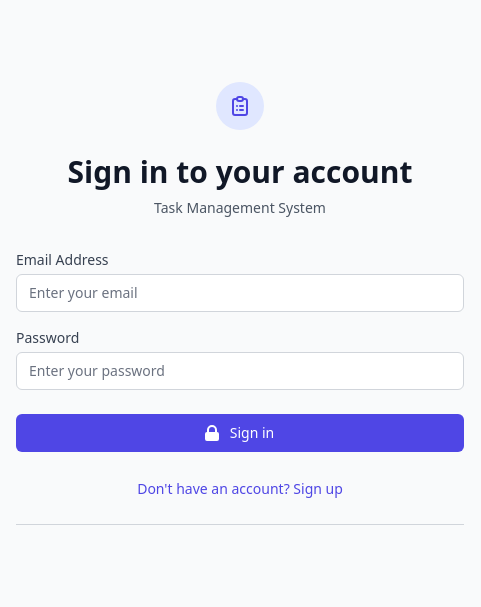
Test case: Login › switches back to login mode from signup
# Switch to signup
Click the button "Don't have an account? Sign up".
click(240, 489)  # box left=137, top=479, right=343, bottom=499
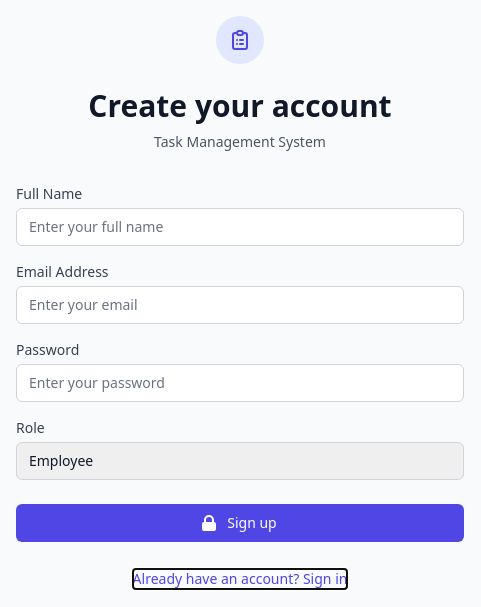
Check: the heading "Create your account" is shown, box left=88, top=85, right=392, bottom=126
# Switch back to login
Click the button "Already have an account? Sign in".
click(240, 579)  # box left=133, top=569, right=347, bottom=589
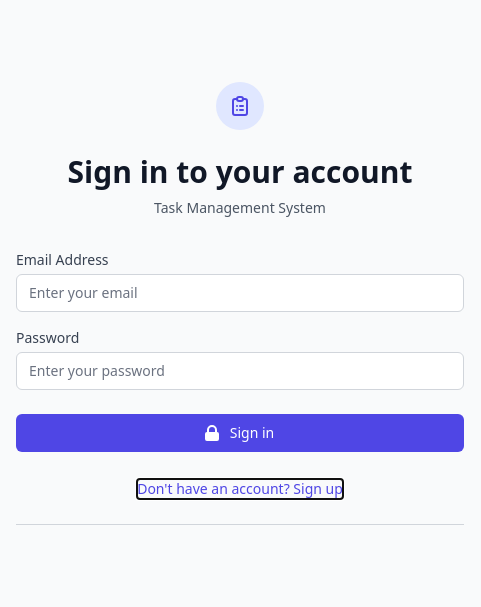
Check: the heading "Sign in to your account" is shown, box left=68, top=151, right=412, bottom=192
